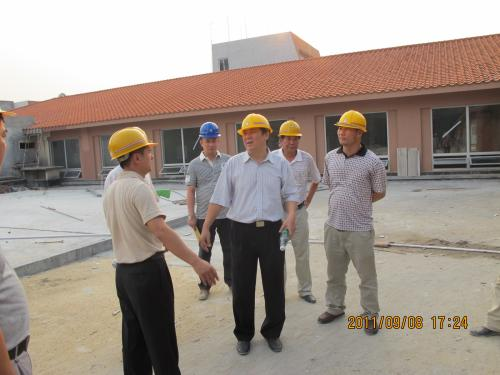boots: (318, 311, 345, 324), (364, 313, 379, 334), (470, 326, 500, 336), (266, 335, 282, 351), (236, 340, 250, 355), (198, 288, 209, 300), (302, 294, 316, 302)
hard-hat: (108, 125, 159, 159), (237, 112, 273, 136), (333, 110, 367, 132), (277, 120, 303, 137), (198, 122, 222, 138)
person: (102, 126, 219, 375), (198, 113, 299, 354), (317, 109, 387, 334), (269, 119, 321, 303), (185, 122, 234, 300)
